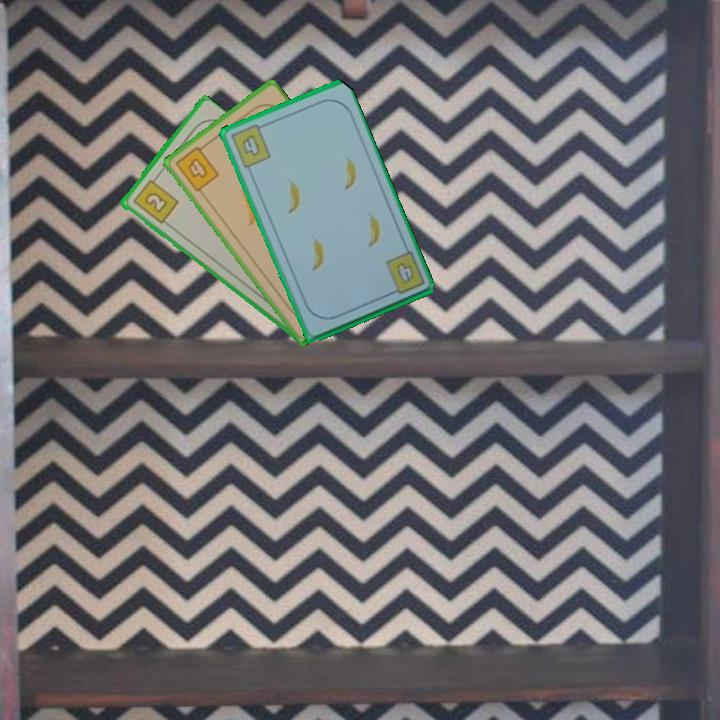2b: (129, 172, 181, 227)
4b: (171, 140, 222, 195), (227, 120, 274, 171), (382, 248, 427, 298)
